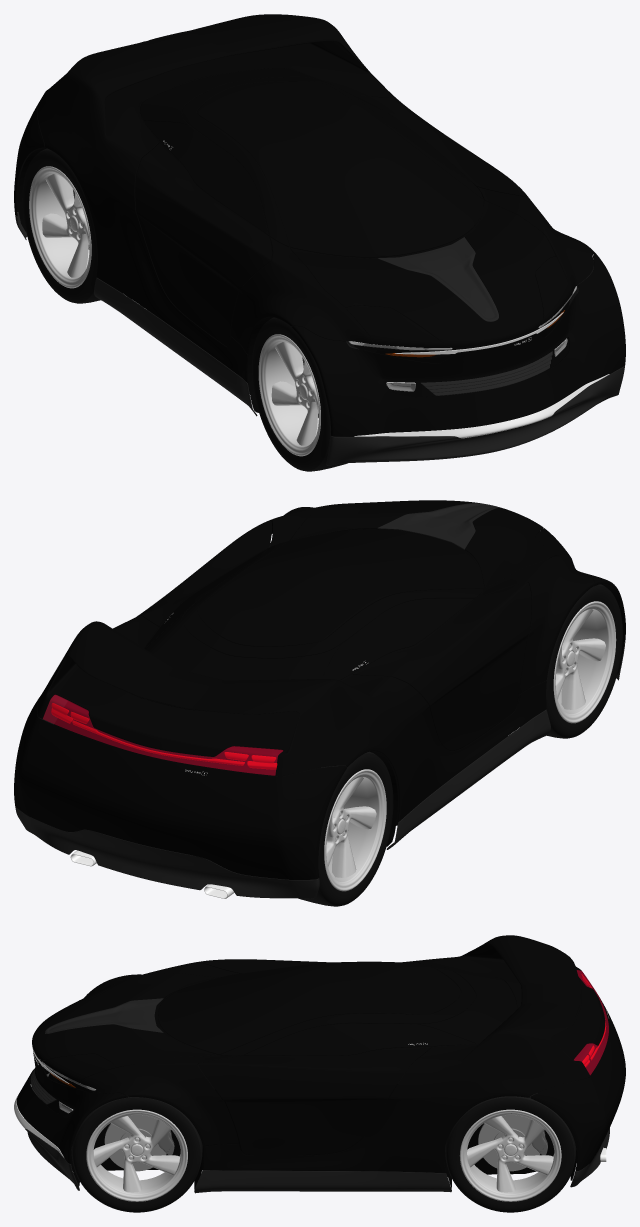
The model's file is concept040.glb.
The picture shows the model from 3 angles, top to bottom: view 1: azimuth 30°, elevation 25°; view 2: azimuth 150°, elevation 25°; view 3: azimuth 270°, elevation 25°; orthographic projection. The views are drawn at different scales.
Visible parts, largest first — view 1: Object_7, Object_11, Object_13, Object_12, Object_15, Object_22, Object_16, Object_26, Object_8, Object_10, Object_24, Object_14 (+5 smaller); view 2: Object_11, Object_7, Object_17, Object_15, Object_12, Object_21, Object_26, Object_16, Object_8, Object_10, Object_2, Object_24 (+5 smaller); view 3: Object_11, Object_7, Object_15, Object_12, Object_8, Object_16, Object_26, Object_21, Object_17, Object_24, Object_13, Object_10 (+9 smaller).
Boxes of the visible parts, x1=… form: Object_7: x1=140, y1=68, x2=483, y2=257; Object_11: x1=37, y1=14, x2=406, y2=382; Object_13: x1=291, y1=252, x2=625, y2=436; Object_12: x1=182, y1=77, x2=555, y2=347; Object_15: x1=135, y1=95, x2=529, y2=346; Object_22: x1=326, y1=237, x2=624, y2=465; Object_16: x1=230, y1=186, x2=594, y2=353; Object_26: x1=29, y1=166, x2=320, y2=456; Object_8: x1=22, y1=150, x2=569, y2=470; Object_10: x1=18, y1=105, x2=582, y2=437; Object_24: x1=42, y1=174, x2=318, y2=445; Object_14: x1=345, y1=256, x2=570, y2=347; Object_11: x1=37, y1=615, x2=546, y2=821; Object_7: x1=144, y1=529, x2=483, y2=680; Object_17: x1=14, y1=698, x2=346, y2=879; Object_15: x1=138, y1=520, x2=531, y2=750; Object_12: x1=182, y1=500, x2=555, y2=658; Object_21: x1=15, y1=709, x2=550, y2=898; Object_26: x1=324, y1=601, x2=616, y2=891; Object_16: x1=270, y1=504, x2=594, y2=694; Object_8: x1=270, y1=541, x2=622, y2=905; Object_10: x1=54, y1=522, x2=624, y2=846; Object_2: x1=43, y1=694, x2=282, y2=775; Object_24: x1=326, y1=638, x2=605, y2=877; Object_11: x1=203, y1=935, x2=605, y2=1172; Object_7: x1=158, y1=962, x2=516, y2=1055; Object_15: x1=198, y1=959, x2=431, y2=1155; Object_12: x1=32, y1=961, x2=475, y2=1067; Object_8: x1=73, y1=1097, x2=574, y2=1212; Object_16: x1=80, y1=962, x2=240, y2=1145; Object_26: x1=86, y1=1109, x2=561, y2=1201; Object_21: x1=194, y1=1128, x2=609, y2=1193; Object_17: x1=530, y1=979, x2=625, y2=1170; Object_24: x1=93, y1=1119, x2=553, y2=1192; Object_13: x1=16, y1=976, x2=128, y2=1163; Object_10: x1=33, y1=984, x2=607, y2=1189.
Size of the model in its own units: 1.84 by 1.24 by 3.96.
